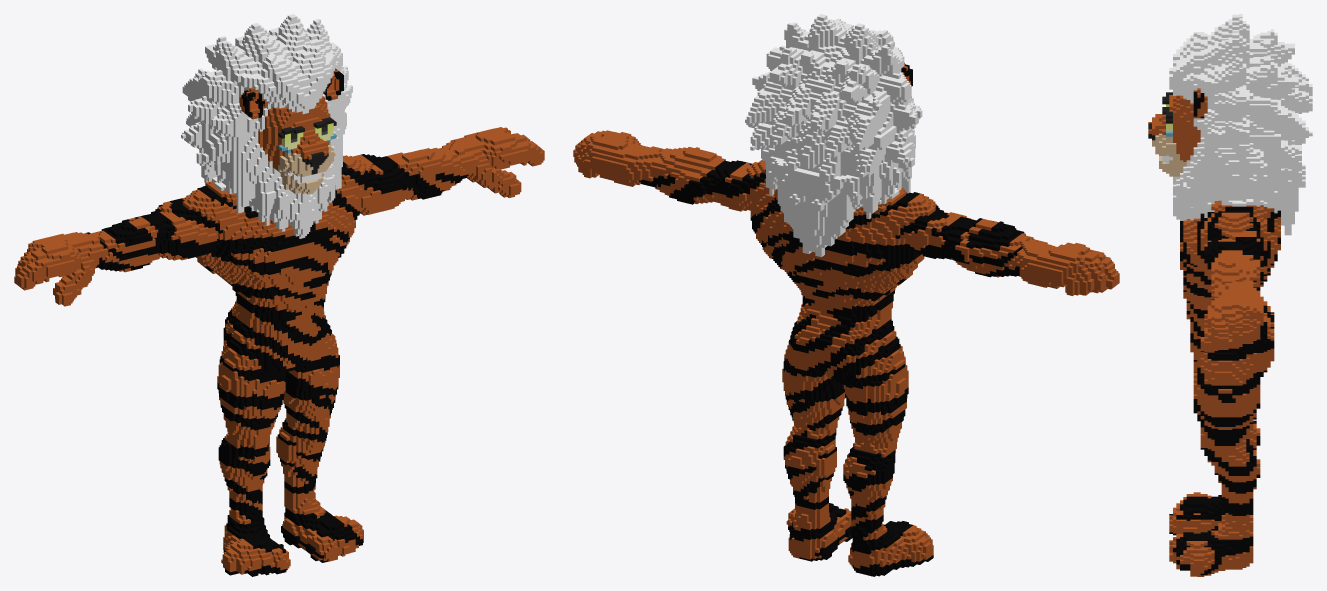
Rendered from 637-CMe1TS5w.glb.
The picture shows the model from 3 angles, left to right: view 1: azimuth 30°, elevation 25°; view 2: azimuth 150°, elevation 25°; view 3: azimuth 270°, elevation 25°; orthographic projection. The views are drawn at different scales.
Visible parts, largest first — view 1: big_smile; view 2: big_smile; view 3: big_smile.
Part boxes in pixels (x1,y1,x2,y2): big_smile: (14,14,544,576); big_smile: (573,14,1119,576); big_smile: (1148,14,1312,576).
Size of the model in its own units: 17.2 by 16.5 by 4.7.
4 materials, 4 textured.
